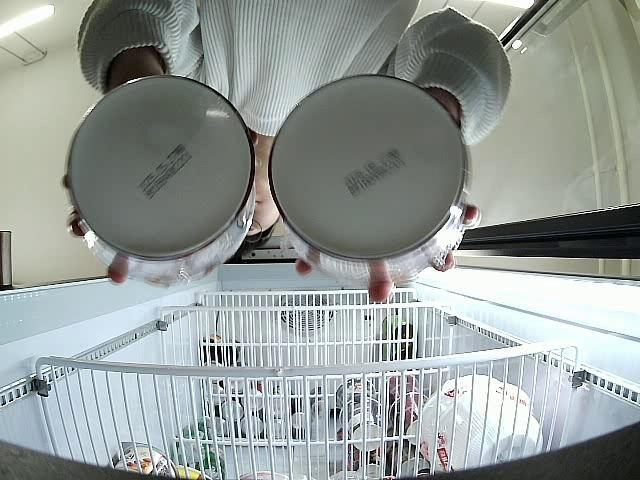00_hand: (296, 203, 481, 301)
05_nuguri_L: (268, 76, 469, 286), (67, 75, 258, 287)
